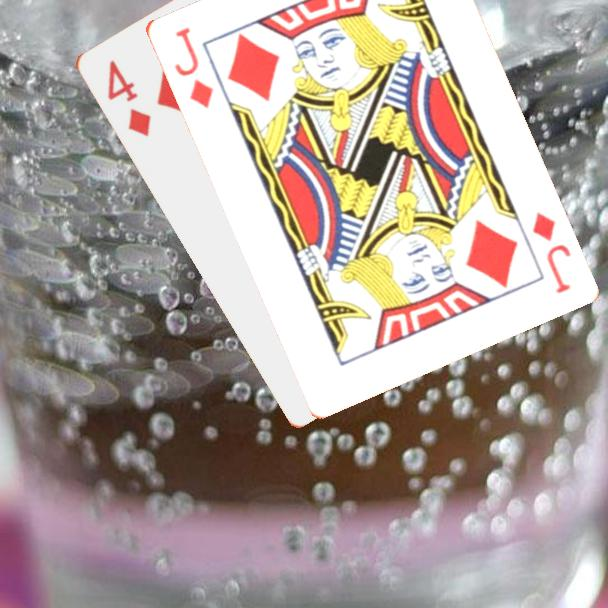d04: (103, 56, 154, 139)
d11: (170, 23, 216, 111), (528, 208, 573, 296)
